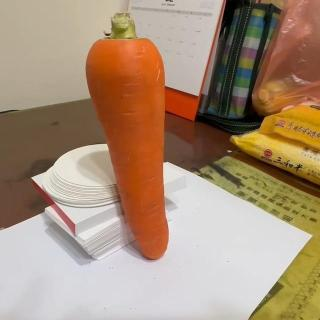carrot: (84, 13, 170, 261)
